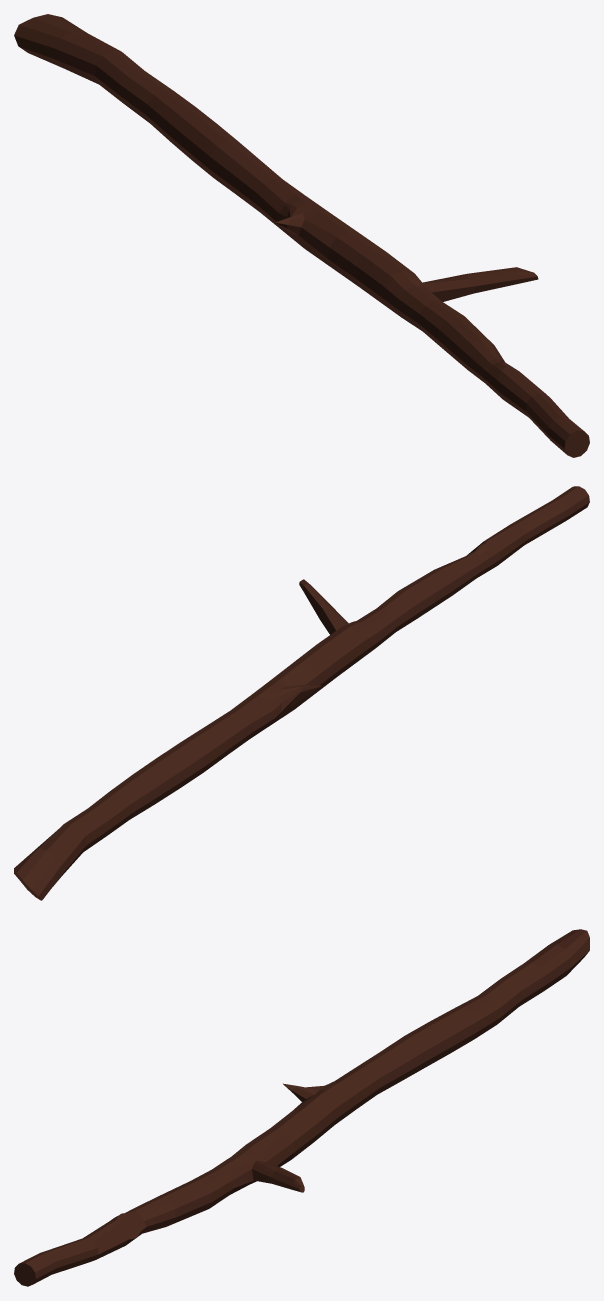
The model's file is Stock1.fbx.
3 renders of one model, top to bottom at view 1: azimuth 30°, elevation 25°; view 2: azimuth 150°, elevation 25°; view 3: azimuth 330°, elevation 25°, orthographic. The views are drawn at different scales.
Visible parts, largest first — view 1: Zylinder; view 2: Zylinder; view 3: Zylinder.
Part boxes in pixels (x1,y1,x2,y2): Zylinder: (14, 14, 589, 457); Zylinder: (14, 486, 589, 900); Zylinder: (14, 929, 589, 1286).
Bounding box in the file's own units: 10.26 × 4.06 × 68.52.
